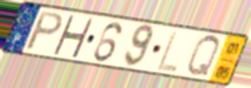6: (92, 20, 124, 64)
9: (122, 23, 155, 70)
H: (51, 14, 95, 60)
L: (154, 29, 180, 74)
P: (22, 10, 66, 52)
Q: (185, 33, 222, 79)
